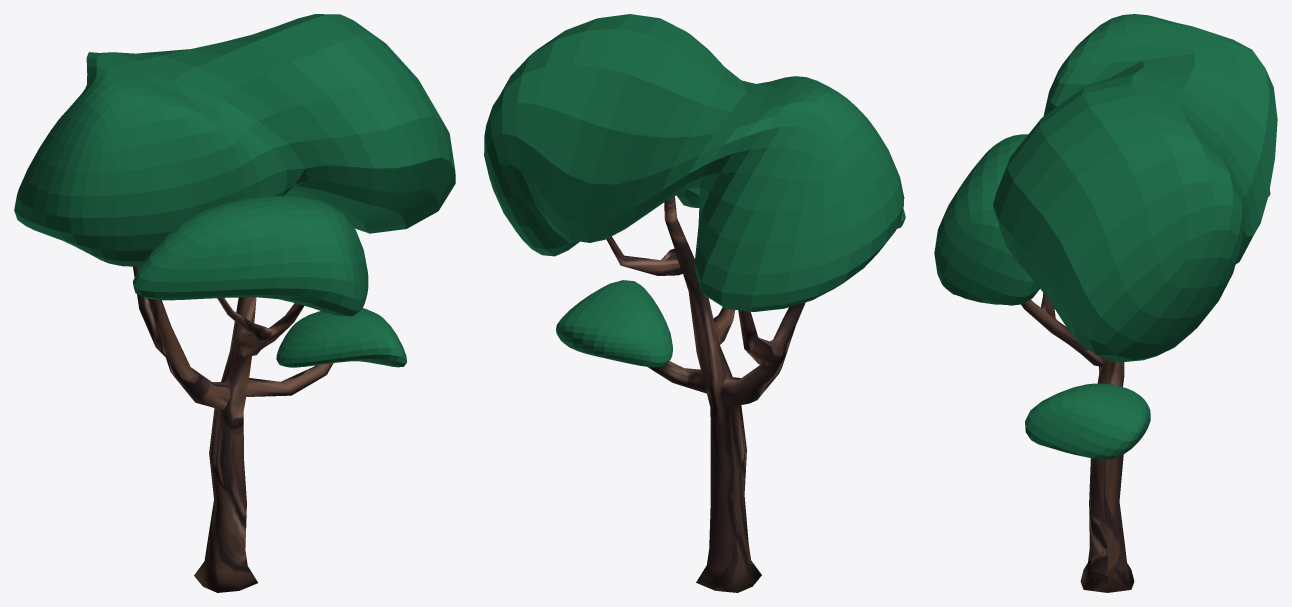
File: Tree.fbx
3 views of the same model, side by side, from view 1: azimuth 30°, elevation 25°; view 2: azimuth 150°, elevation 25°; view 3: azimuth 270°, elevation 25° (orthographic). The views are drawn at different scales.
Parts seen in each view (by area): view 1: Cube.001, Cube.002, Cube, Cube.003; view 2: Cube.001, Cube, Cube.003; view 3: Cube.001, Cube.002, Cube.003, Cube.
Part boxes in pixels (left/top/right/bottom): Cube.001: left=14, top=14, right=455, bottom=266; Cube.002: left=133, top=196, right=368, bottom=316; Cube: left=133, top=266, right=333, bottom=592; Cube.003: left=276, top=308, right=406, bottom=367; Cube.001: left=484, top=14, right=904, bottom=311; Cube: left=606, top=196, right=805, bottom=592; Cube.003: left=556, top=280, right=672, bottom=367; Cube.001: left=993, top=14, right=1277, bottom=362; Cube.002: left=934, top=134, right=1039, bottom=305; Cube.003: left=1025, top=383, right=1150, bottom=459; Cube: left=1021, top=293, right=1134, bottom=592.
Bounding box in the file's own units: 310 × 399 × 233.
